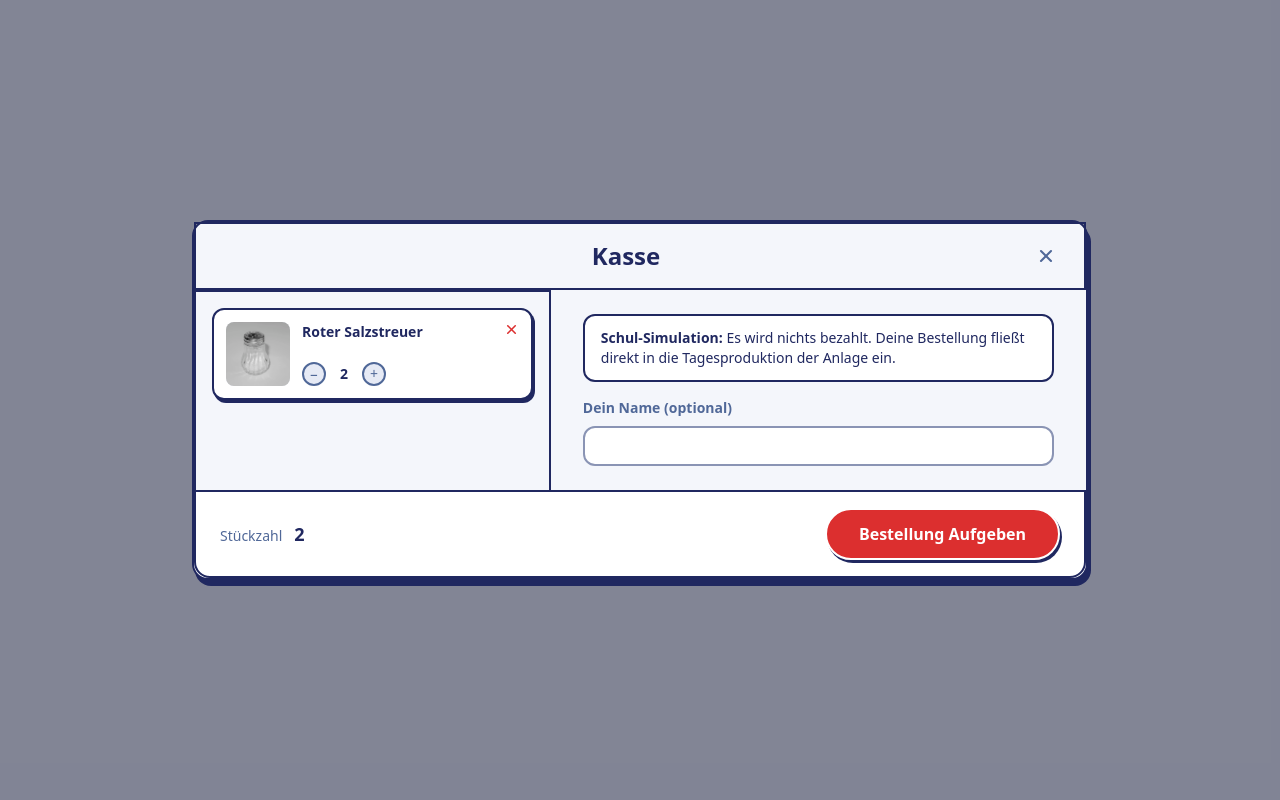
CheckoutDialog in simulation mode › needs no payment method, shows the school hint and sends the name
The image size is (1280, 800).
Check: the text "Schul-Simulation:" is shown, box [601,328,723,347]
Check: the text "Stückzahl" is shown, box [220,526,282,545]
Type "Mia" into the field labelled "Dein Name (optional)". click: (818, 446)
box: [583,426,1054,466]
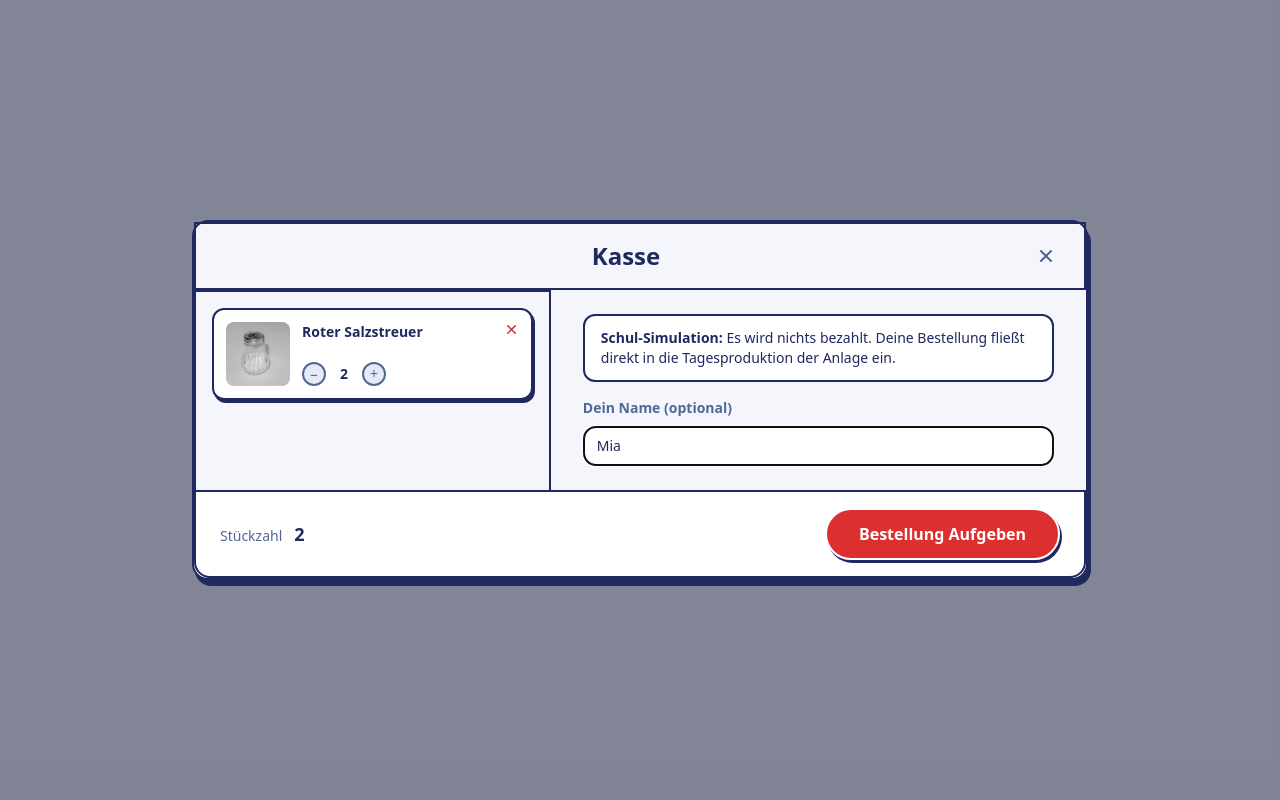
Click the button "Bestellung Aufgeben". click: (942, 534)
box: [825,508,1060,560]
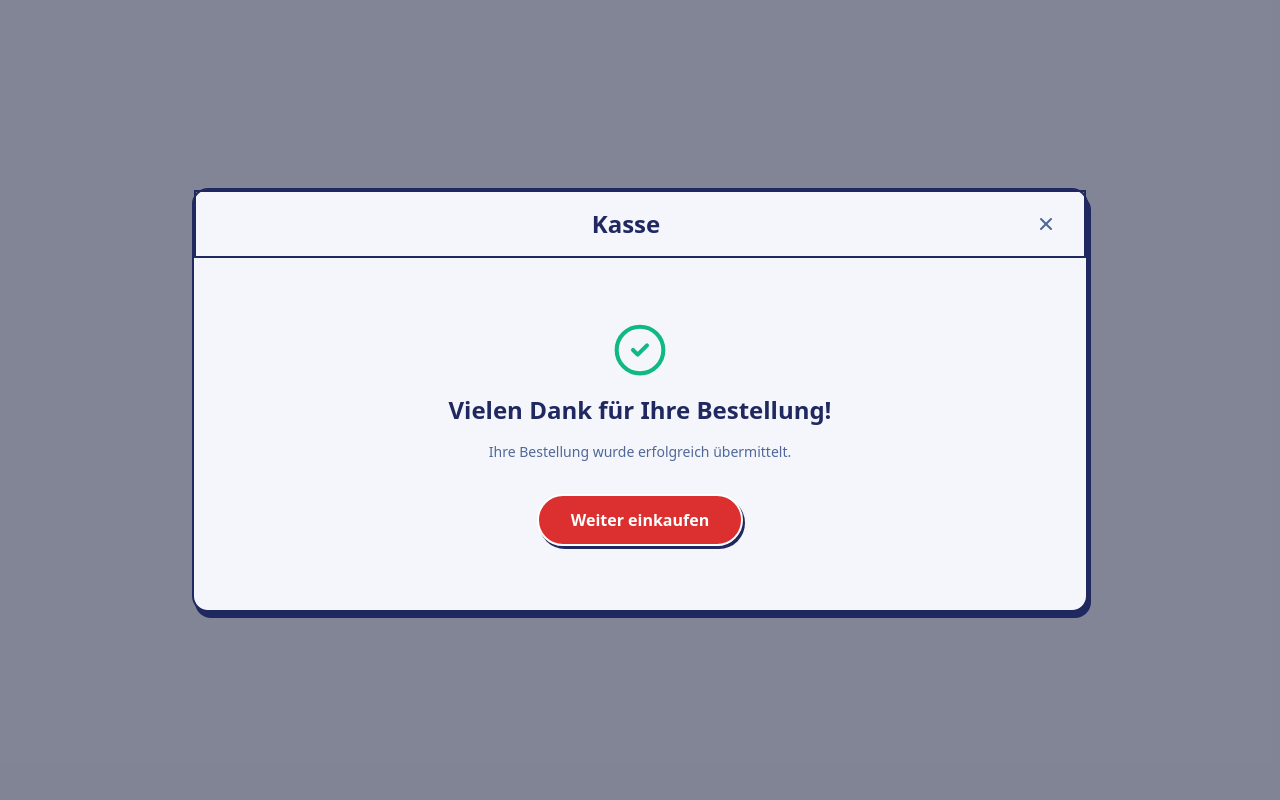
Check: the heading "Vielen Dank für Ihre Bestellung!" is shown, box [448,394,832,426]
